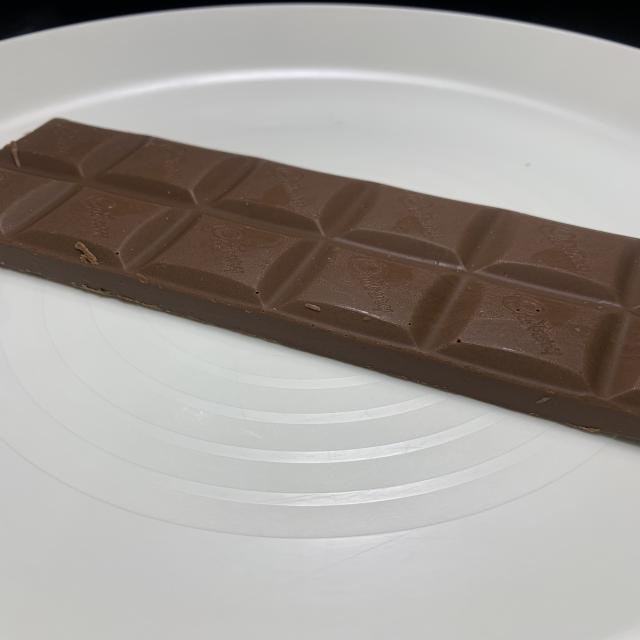Chocolate: (0, 115, 640, 452)
